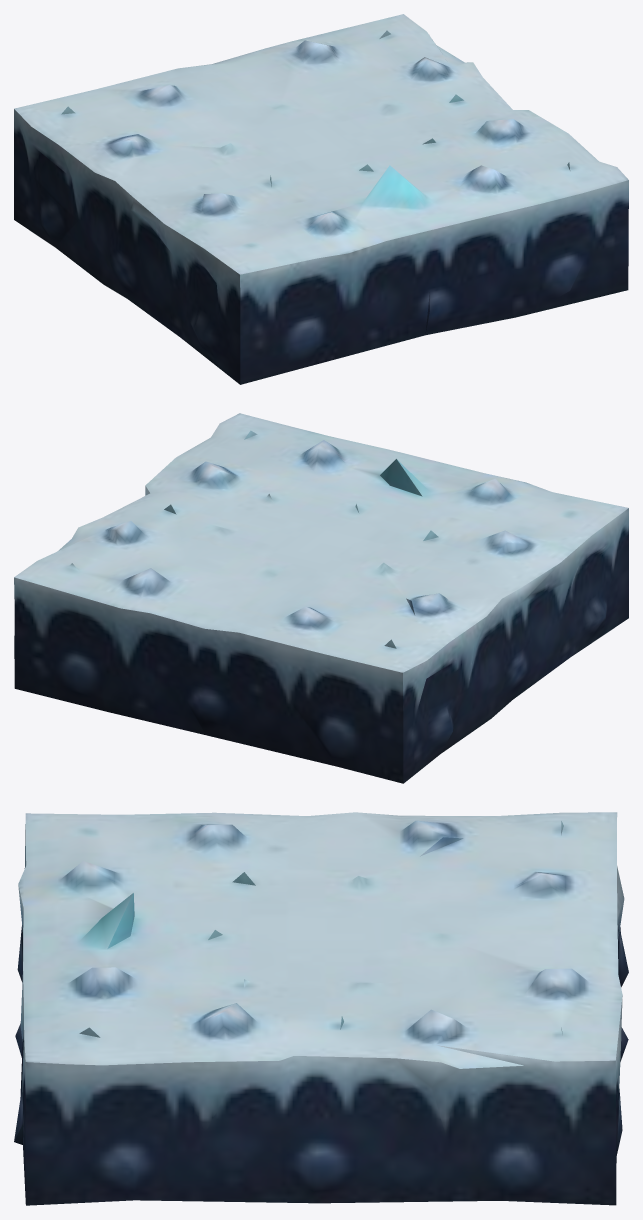
The model's file is b_givre_sol_1.glb.
3 views of the same model, one above another, from view 1: azimuth 30°, elevation 25°; view 2: azimuth 150°, elevation 25°; view 3: azimuth 270°, elevation 25° (orthographic). The views are drawn at different scales.
Parts seen in each view (by area): view 1: geometry_0; view 2: geometry_0; view 3: geometry_0.
Part boxes in pixels (bbox=[...]): geometry_0: bbox=[14, 14, 628, 384]; geometry_0: bbox=[14, 413, 628, 783]; geometry_0: bbox=[14, 812, 628, 1205].
Bounding box in the file's own units: 1 × 0.3374 × 1.
Materials: 1 (1 with a texture image).
